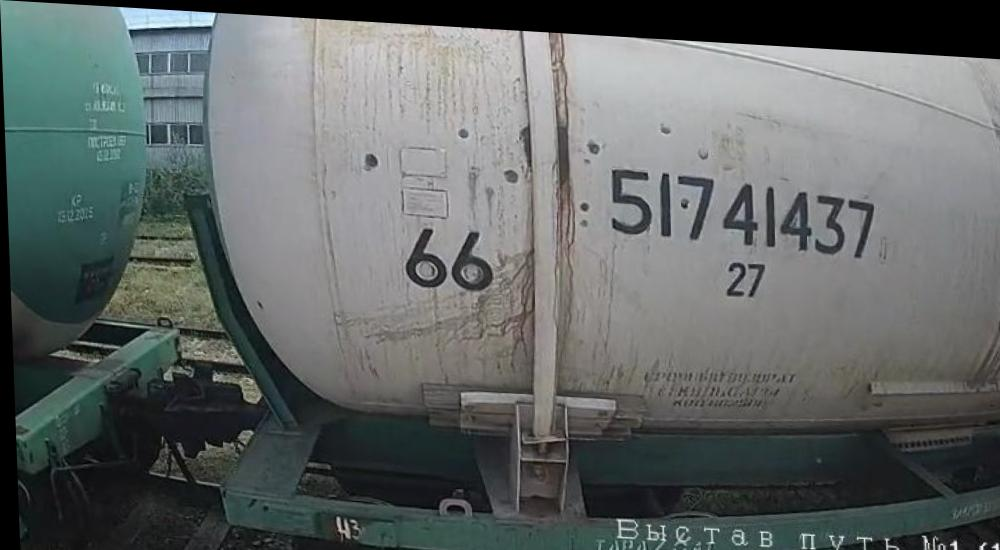Wagon-number: (599, 154, 882, 256)
